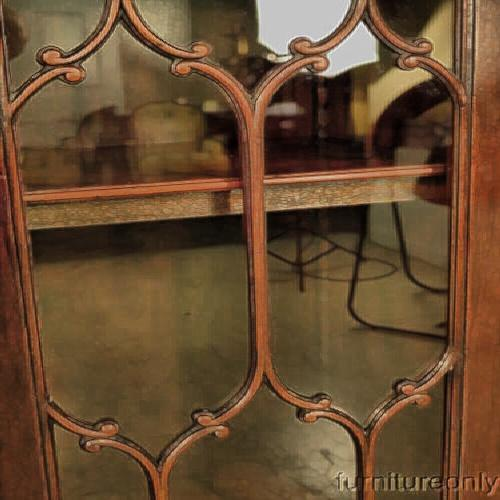cabinet: (27, 14, 477, 485)
